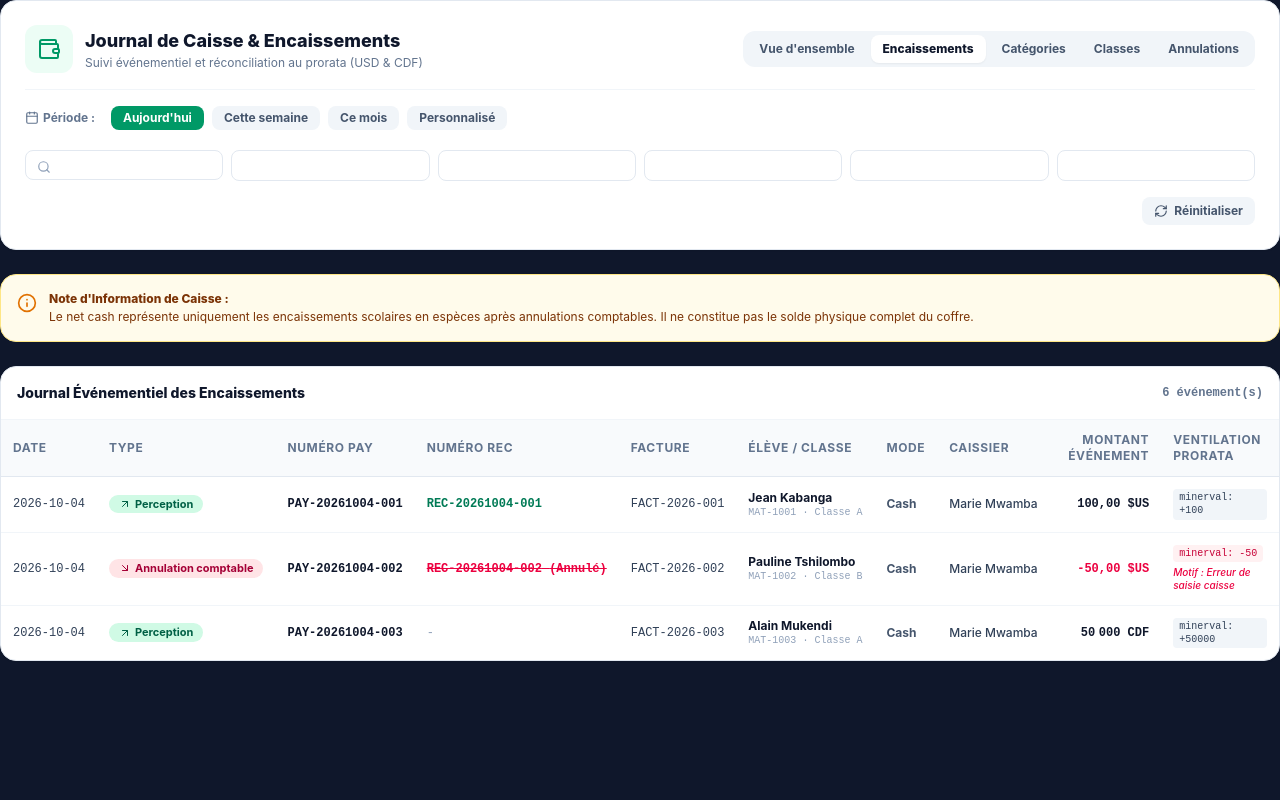
it: LOT 2K-FIN-CASH-F-V2 — Module Caisse, Classes, Caissiers, Reçus et Date Locale › 6. Reçus dans la Modal (Actif vs Annulé vs Sans Reçu) › ouvre la modale pour un reçu actif ("Reçu de Paiement Officiel")
Click the button "REC-20261004-001": coordinates (484, 504) [427,496,542,512]
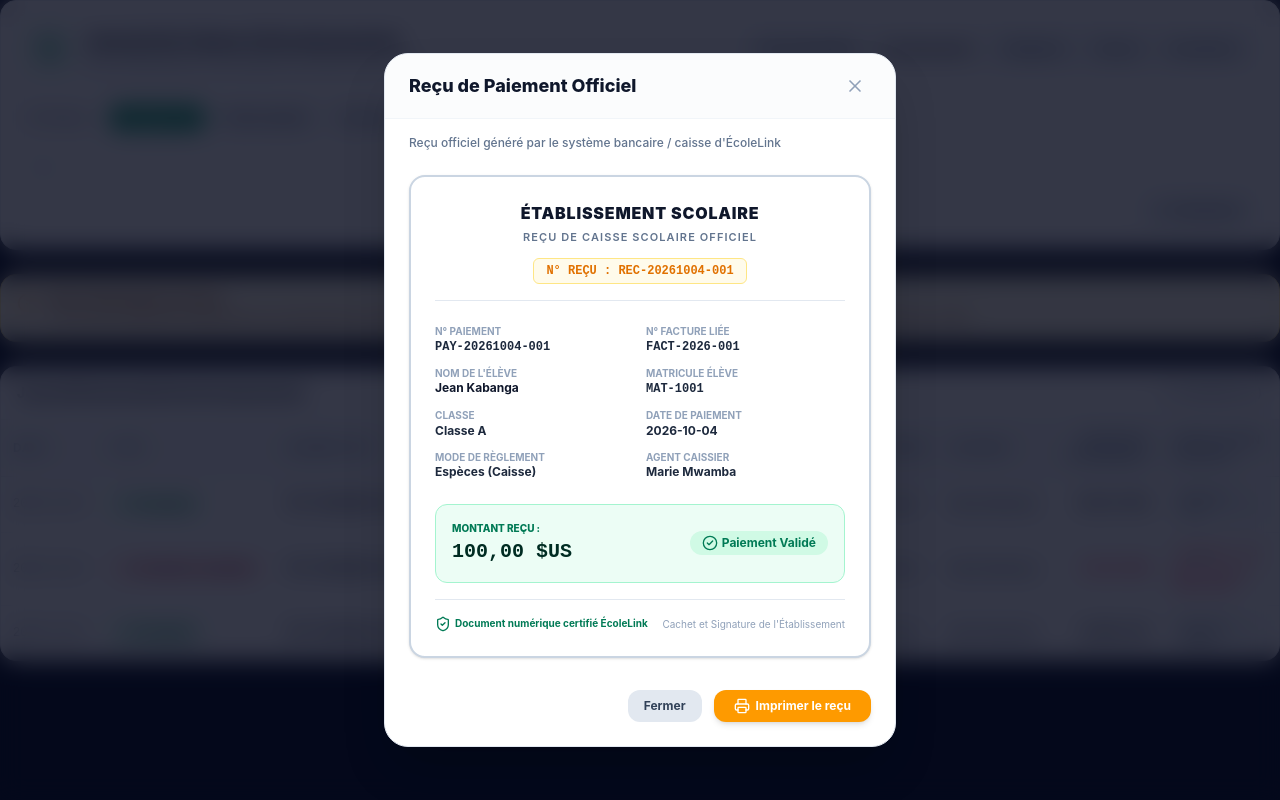
Check: the heading "Reçu de Paiement Officiel" is shown, box [409,72,636,100]
Check: the text "REÇU DE CAISSE SCOLAIRE OFFICIEL" is shown, box [523,230,757,244]
